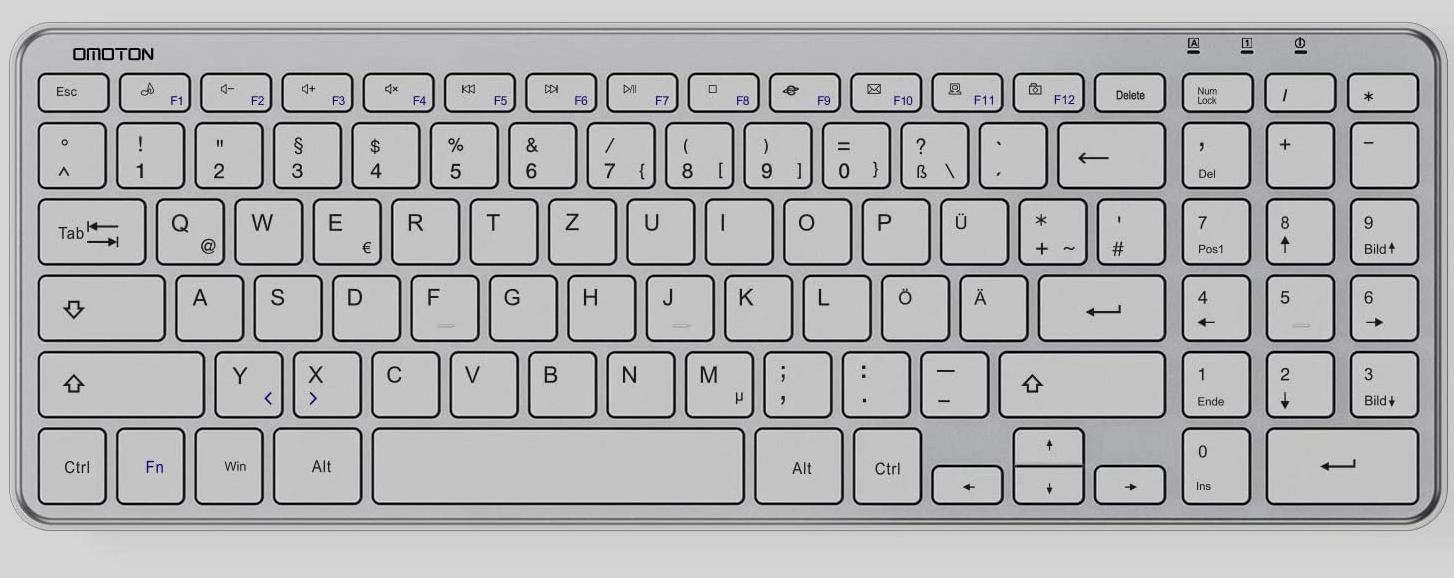0: (817, 117, 889, 186)
1: (112, 117, 183, 186)
2: (191, 117, 262, 186)
3: (268, 117, 340, 186)
4: (348, 117, 418, 186)
5: (425, 117, 497, 186)
6: (504, 117, 575, 186)
7: (583, 118, 654, 187)
8: (660, 118, 731, 187)
9: (738, 118, 811, 186)
a: (170, 270, 242, 338)
accent: (975, 116, 1044, 185)
ae: (955, 270, 1026, 339)
alt-left: (269, 422, 364, 504)
altgr-right: (750, 422, 844, 503)
b: (523, 346, 595, 416)
c: (367, 346, 438, 415)
caret: (35, 118, 104, 185)
comma: (758, 346, 830, 415)
d: (327, 269, 399, 339)
del: (1054, 116, 1164, 185)
e: (308, 193, 380, 263)
enter: (1033, 270, 1164, 339)
f: (406, 270, 476, 339)
g: (484, 270, 555, 339)
h: (563, 270, 633, 338)
hash: (1093, 193, 1163, 263)
i: (701, 192, 770, 261)
j: (641, 270, 712, 339)
k: (720, 269, 790, 339)
keyboard: (5, 19, 1451, 538)
l: (799, 269, 868, 339)
m: (679, 346, 752, 416)
minus: (915, 346, 987, 416)
n: (601, 346, 673, 415)
o: (778, 193, 849, 262)
oe: (877, 270, 947, 339)
p: (856, 192, 928, 262)
plus: (1014, 193, 1085, 262)
point: (837, 346, 909, 415)
q: (151, 193, 224, 263)
r: (387, 193, 458, 262)
s: (249, 270, 320, 339)
shift-left: (34, 345, 205, 415)
shift-lock: (34, 269, 164, 339)
shift-right: (996, 345, 1165, 416)
space: (369, 422, 745, 504)
ss: (895, 117, 966, 186)
strg-left: (35, 422, 108, 505)
strg-right: (849, 422, 921, 504)
t: (466, 192, 535, 262)
tab: (34, 192, 147, 263)
u: (622, 192, 692, 263)
ue: (935, 192, 1007, 263)
v: (445, 346, 516, 415)
w: (230, 192, 300, 262)
x: (288, 346, 360, 416)
y: (210, 346, 282, 415)
z: (544, 193, 614, 263)
